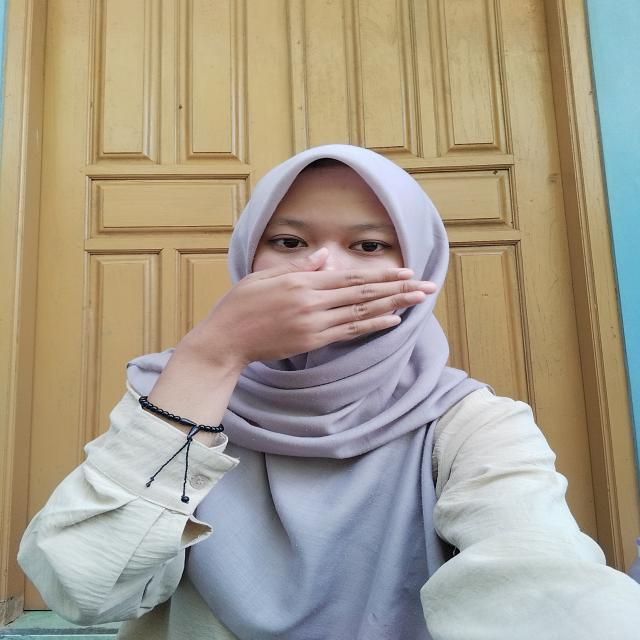buruk: (168, 234, 456, 372)
